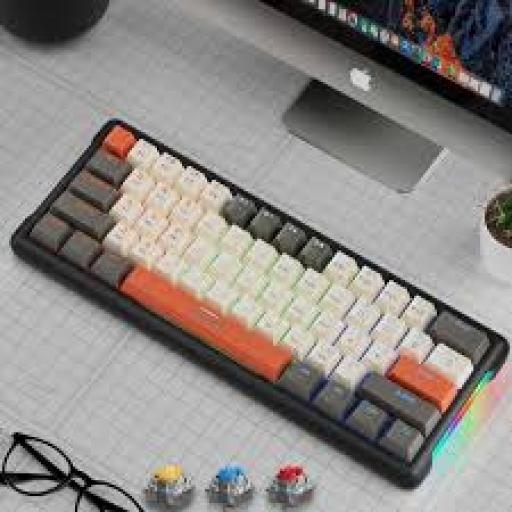keyboard: (11, 118, 507, 485)
